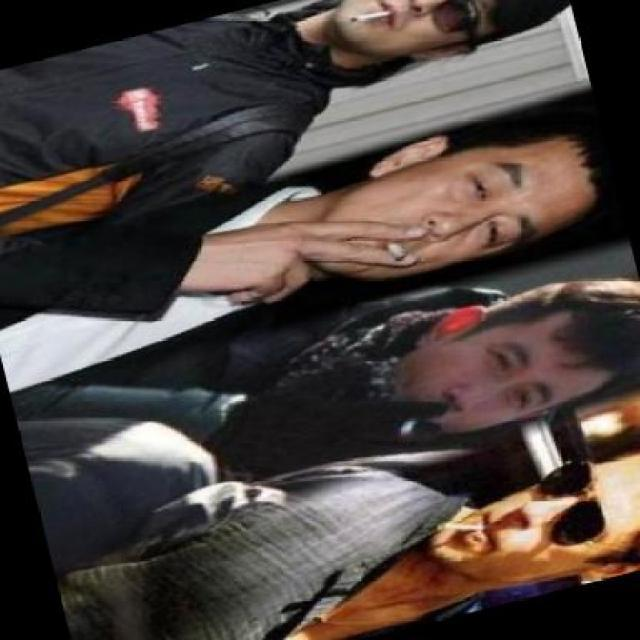cigarette: (430, 510, 488, 542), (378, 232, 411, 265), (344, 5, 392, 27), (391, 412, 424, 440)
